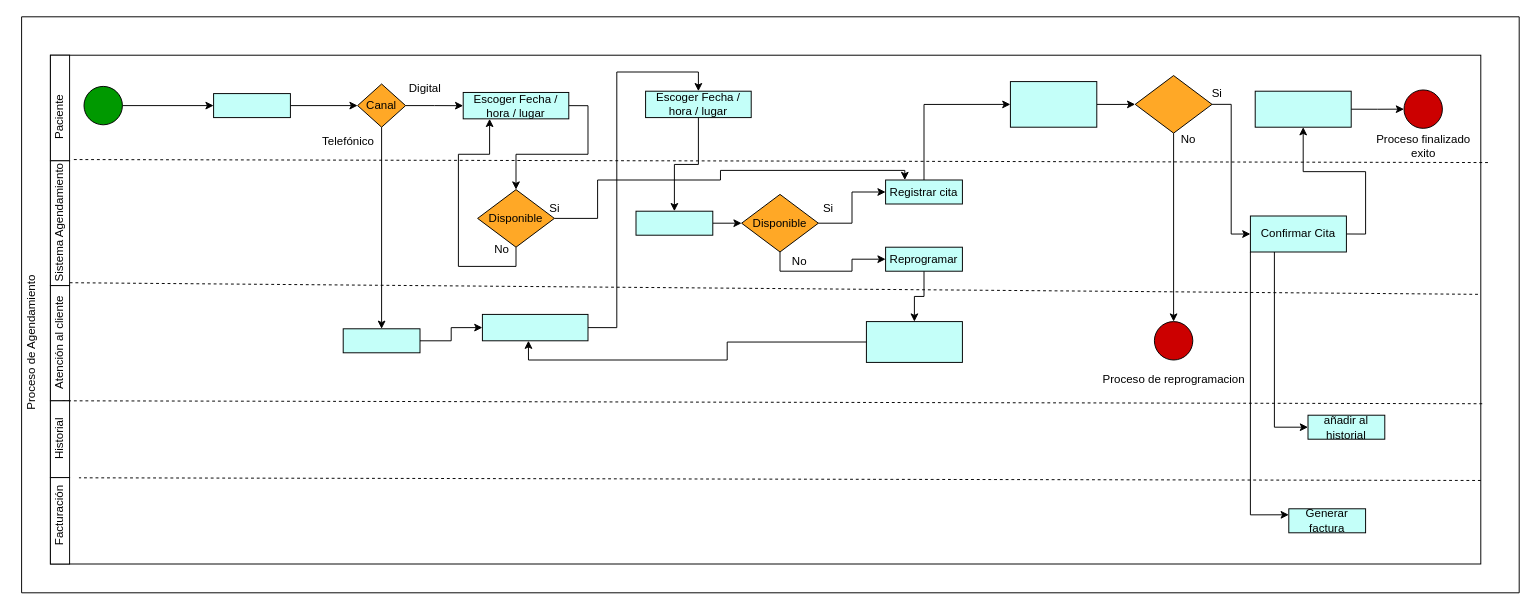
Some shapes in this 1536 by 610 pixel diagram are drawn without their labels. Each missing label, with the centre of its shape:
Atender llamada: (x=381, y=340)
Confirma: (x=1173, y=104)
Notificar Confirmación: (x=1302, y=108)
Notificar falta de disponiblidad: (x=913, y=341)
Notificar Fecha / hora / lugar de la cita: (x=1053, y=104)
Proponer Fecha / hora / lugar: (x=534, y=327)
Solicitar Cita: (x=251, y=105)
Ver disponibilidad: (x=674, y=222)
